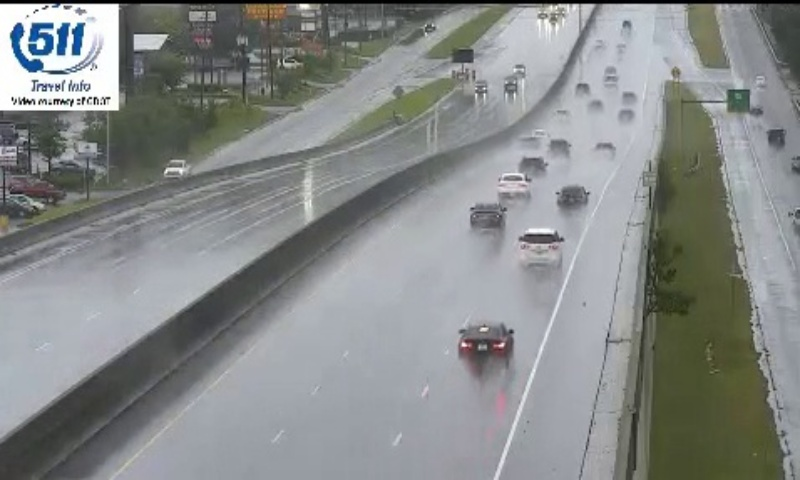car: (457, 321, 514, 361), (518, 228, 558, 270), (469, 203, 504, 230), (497, 171, 528, 198), (556, 184, 588, 209)
